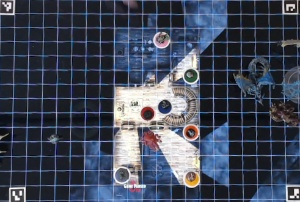blue: (156, 98, 172, 116)
green: (181, 66, 200, 84)
orange: (180, 122, 201, 142)
pink: (151, 30, 169, 47)
red: (138, 103, 155, 123)
violet: (111, 164, 130, 183)
yellow: (182, 168, 203, 188)
